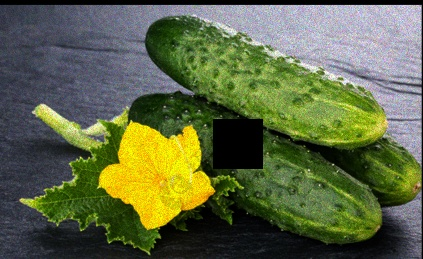cucumber: (145, 12, 386, 131)
cucumber_plant: (21, 107, 213, 247)
